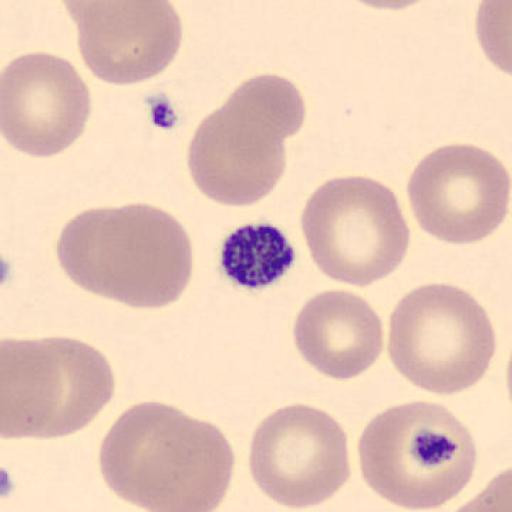Platelet: (216, 219, 297, 292)
RBC: (97, 398, 236, 512), (57, 203, 195, 309), (356, 400, 480, 510), (385, 280, 498, 398), (298, 174, 412, 288), (2, 335, 116, 441), (246, 402, 351, 511), (406, 141, 510, 247), (186, 98, 286, 208), (98, 398, 194, 512), (98, 200, 194, 310), (66, 0, 183, 87), (2, 50, 92, 160), (291, 287, 385, 383), (55, 204, 141, 307), (2, 336, 65, 441), (227, 72, 306, 144), (432, 467, 512, 512), (473, 0, 512, 77), (436, 481, 512, 512), (340, 0, 436, 11)
